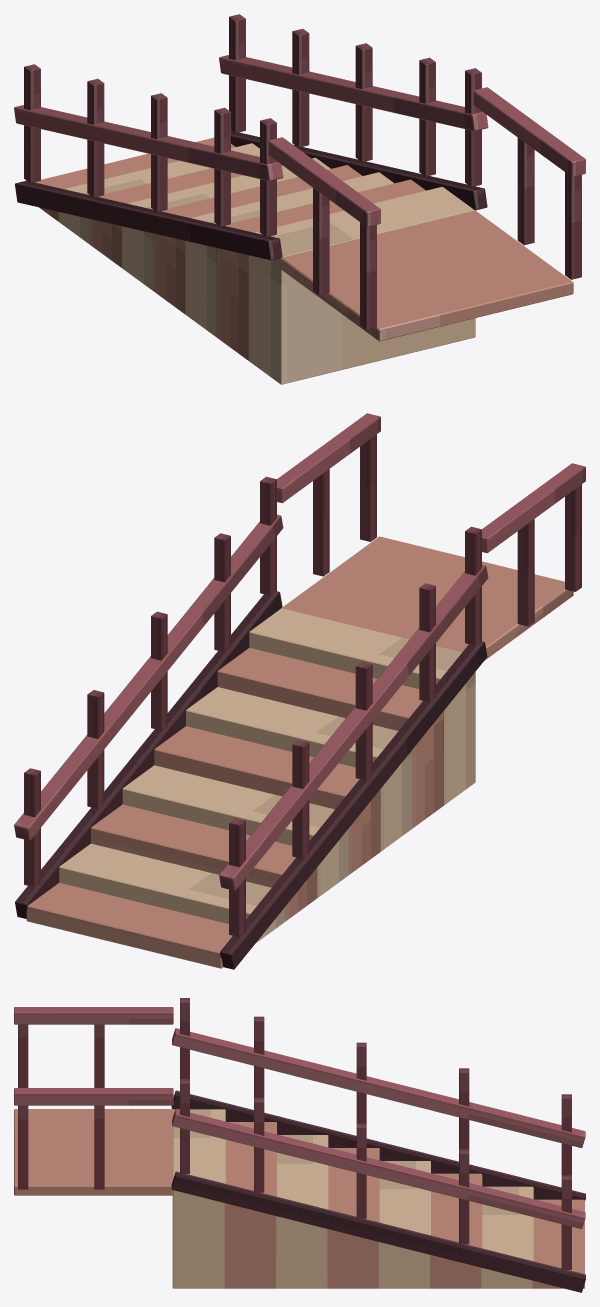
Rendered from grand_staircase.glb.
The picture shows the model from 3 angles, top to bottom: view 1: azimuth 30°, elevation 25°; view 2: azimuth 150°, elevation 25°; view 3: azimuth 270°, elevation 25°; orthographic projection. The views are drawn at different scales.
Parts seen in each view (by area): view 1: GrandStairLanding, GrandStairStep_07, GrandStairStringer_-0.84, GrandStairHandrail_0.84, GrandStairHandrail_-0.84, GrandStairStep_06, GrandStairStep_05, GrandStairStep_04, GrandStairStep_03, GrandLandingRail_0.84, GrandLandingRail_-0.84, GrandStairStringer_0.84 (+17 smaller); view 2: GrandStairLanding, GrandStairStep_07, GrandStairStep_06, GrandStairStep_05, GrandStairStep_04, GrandStairStringer_-0.84, GrandStairStep_00, GrandStairHandrail_0.84, GrandStairHandrail_-0.84, GrandStairStep_01, GrandStairStep_03, GrandStairStep_02 (+17 smaller); view 3: GrandStairLanding, GrandStairStringer_0.84, GrandStairHandrail_-0.84, GrandStairHandrail_0.84, GrandStairStep_07, GrandStairStep_06, GrandStairStep_05, GrandStairStep_04, GrandStairStringer_-0.84, GrandStairStep_03, GrandStairStep_02, GrandStairStep_01 (+17 smaller).
Boxes of the visible parts, left/top/right/bottom form: GrandStairLanding: left=281, top=210, right=573, bottom=341; GrandStairStep_07: left=248, top=186, right=475, bottom=384; GrandStairStringer_-0.84: left=15, top=180, right=282, bottom=260; GrandStairHandrail_0.84: left=219, top=55, right=488, bottom=131; GrandStairHandrail_-0.84: left=14, top=105, right=283, bottom=181; GrandStairStep_06: left=217, top=179, right=425, bottom=360; GrandStairStep_05: left=185, top=172, right=393, bottom=337; GrandStairStep_04: left=153, top=165, right=362, bottom=314; GrandStairStep_03: left=121, top=157, right=330, bottom=290; GrandLandingRail_0.84: left=473, top=87, right=585, bottom=176; GrandLandingRail_-0.84: left=268, top=137, right=380, bottom=226; GrandStairStringer_0.84: left=231, top=130, right=487, bottom=210; GrandStairLanding: left=282, top=536, right=573, bottom=660; GrandStairStep_07: left=249, top=608, right=475, bottom=805; GrandStairStep_06: left=217, top=648, right=443, bottom=828; GrandStairStep_05: left=186, top=687, right=412, bottom=851; GrandStairStep_04: left=154, top=726, right=380, bottom=874; GrandStairStringer_-0.84: left=220, top=641, right=487, bottom=969; GrandStairStep_00: left=26, top=882, right=232, bottom=968; GrandStairHandrail_0.84: left=14, top=514, right=283, bottom=840; GrandStairHandrail_-0.84: left=219, top=564, right=488, bottom=890; GrandStairStep_01: left=59, top=843, right=285, bottom=942; GrandStairStep_03: left=122, top=765, right=348, bottom=897; GrandStairStep_02: left=91, top=804, right=317, bottom=920; GrandStairLanding: left=14, top=1109, right=172, bottom=1195; GrandStairStringer_0.84: left=171, top=1171, right=585, bottom=1292; GrandStairHandrail_-0.84: left=172, top=1028, right=585, bottom=1148; GrandStairHandrail_0.84: left=172, top=1109, right=585, bottom=1228; GrandStairStep_07: left=172, top=1109, right=225, bottom=1288; GrandStairStep_06: left=224, top=1122, right=276, bottom=1288; GrandStairStep_05: left=276, top=1135, right=328, bottom=1288; GrandStairStep_04: left=327, top=1148, right=379, bottom=1288; GrandStairStringer_-0.84: left=171, top=1090, right=585, bottom=1200; GrandStairStep_03: left=378, top=1161, right=430, bottom=1288; GrandStairStep_02: left=430, top=1173, right=482, bottom=1288; GrandStairStep_01: left=481, top=1186, right=533, bottom=1288.
Size of the model in its own units: 1.8 by 2.03 by 5.02.
Materials: 1 (1 with a texture image).
